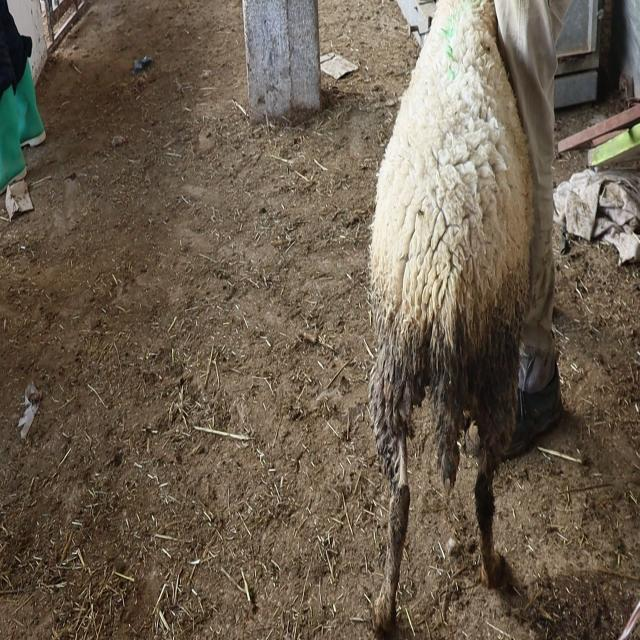Score_4: (368, 0, 533, 629)
